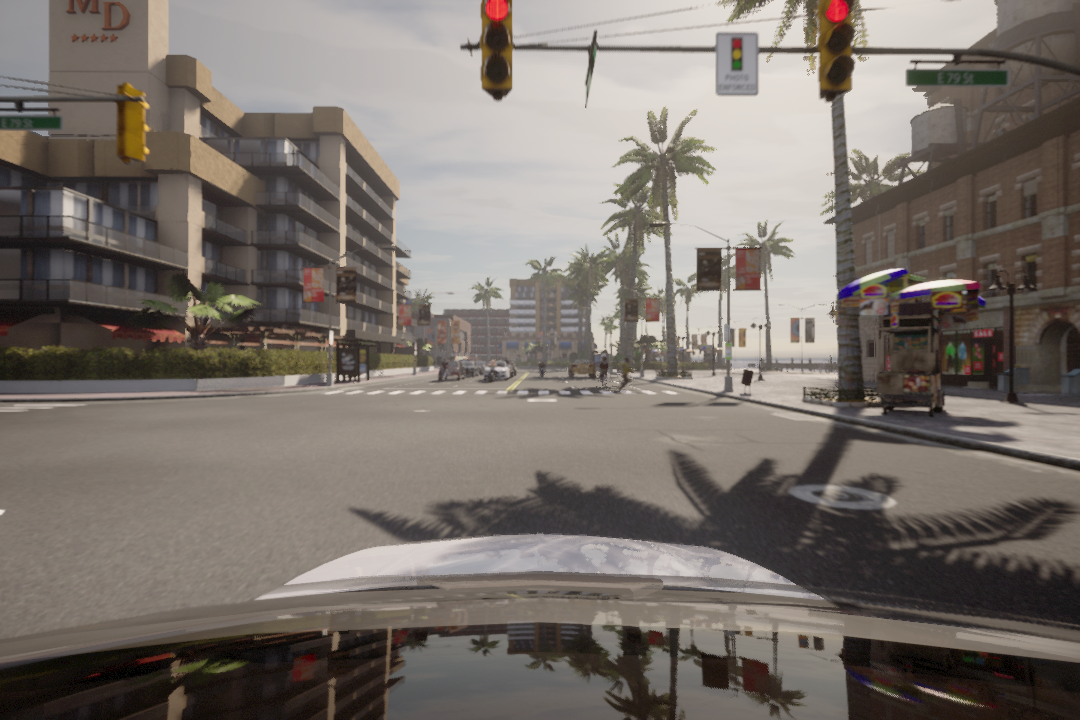TrafficLight: (818, 3, 855, 93), (479, 1, 512, 97)
walkside: (318, 385, 681, 398)
